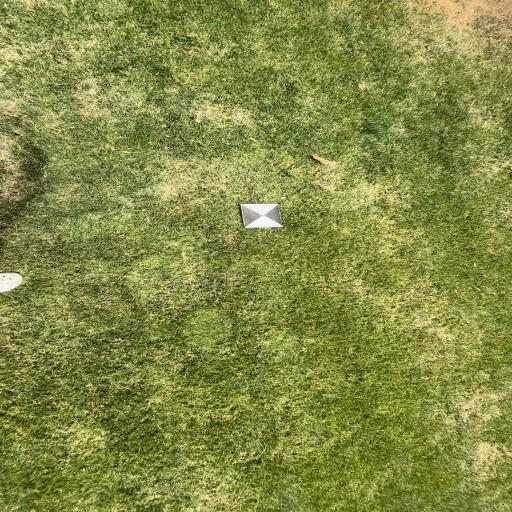target: (242, 204, 280, 227)
